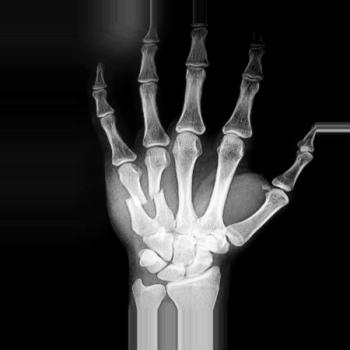Fracture: (120, 195, 150, 207), (150, 185, 167, 198)
